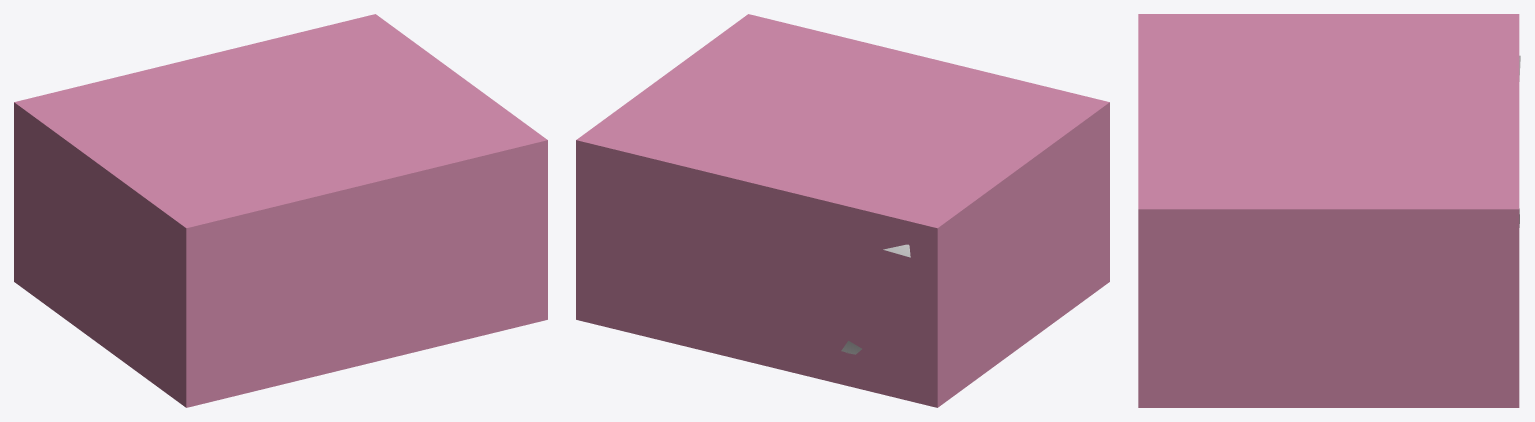
Rendered from utah_rock_small_a.dae.
3 views of the same model, side by side, from view 1: azimuth 30°, elevation 25°; view 2: azimuth 150°, elevation 25°; view 3: azimuth 270°, elevation 25° (orthographic). The views are drawn at different scales.
Parts seen in each view (by area): view 1: Untitled; view 2: Untitled; view 3: Untitled.
Part boxes in pixels (left/top/right/bottom): Untitled: left=14, top=14, right=547, bottom=407; Untitled: left=576, top=14, right=1109, bottom=407; Untitled: left=1138, top=14, right=1519, bottom=407.
Size of the model in its own units: 1.74 by 1.44 by 0.8265.
